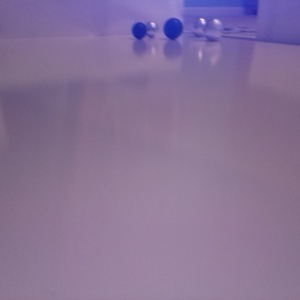alive_ball: (205, 18, 223, 41), (192, 17, 208, 36), (145, 21, 159, 37)
dead_ball: (163, 17, 183, 40), (132, 22, 147, 39)
